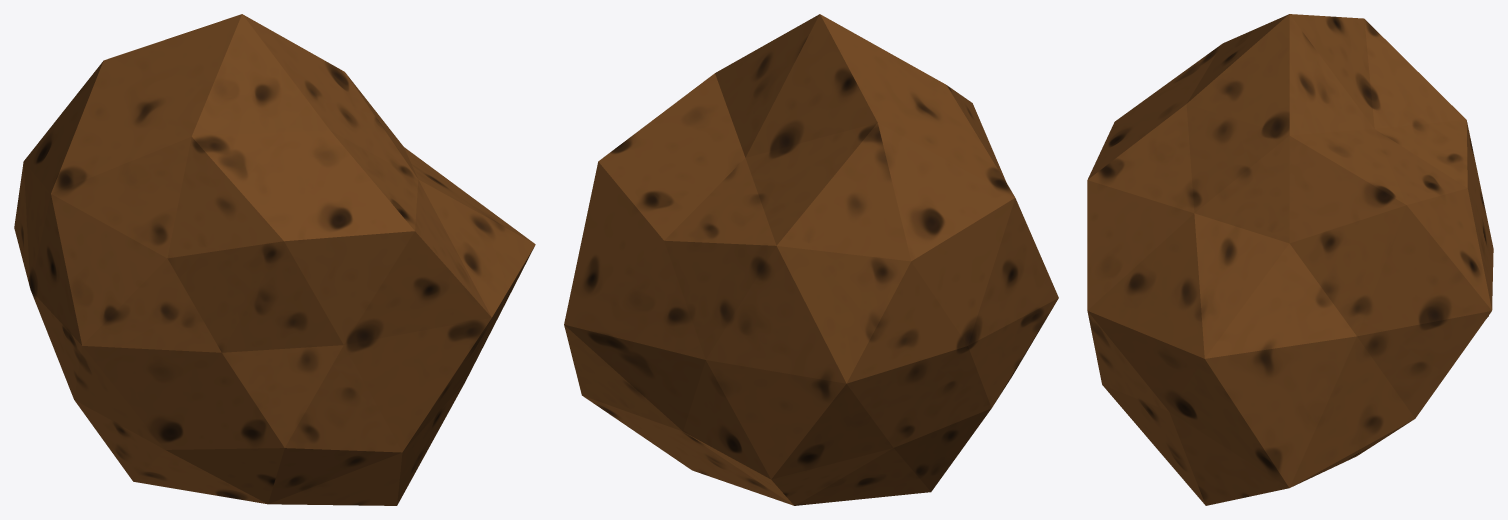
The model's file is Commet1.obj.
3 renders of one model, left to right at view 1: azimuth 30°, elevation 25°; view 2: azimuth 150°, elevation 25°; view 3: azimuth 270°, elevation 25°, orthographic. The views are drawn at different scales.
Parts seen in each view (by area): view 1: ICO球; view 2: ICO球; view 3: ICO球.
Boxes of the visible parts, x1=… form: ICO球: x1=14, y1=14, x2=535, y2=505; ICO球: x1=564, y1=14, x2=1058, y2=505; ICO球: x1=1087, y1=14, x2=1493, y2=505.
Bounding box in the file's own units: 7.66 × 7.99 × 6.64.
1 material, 1 textured.
